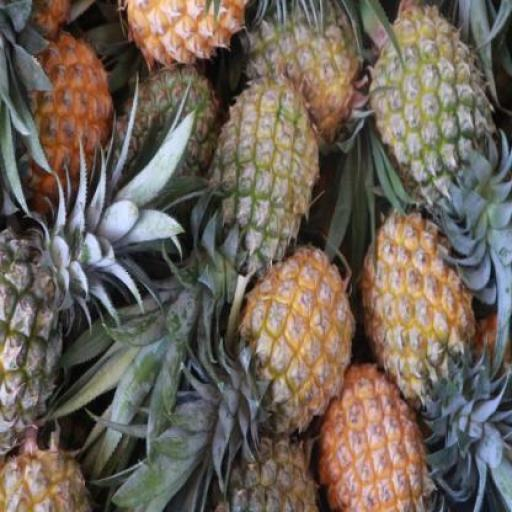------------------------------: (370, 0, 490, 214), (208, 79, 314, 274), (0, 232, 70, 488), (243, 4, 361, 147)
Pineapple - v8 v1: (361, 214, 470, 410), (8, 31, 114, 220), (242, 248, 349, 431), (317, 365, 430, 512)
